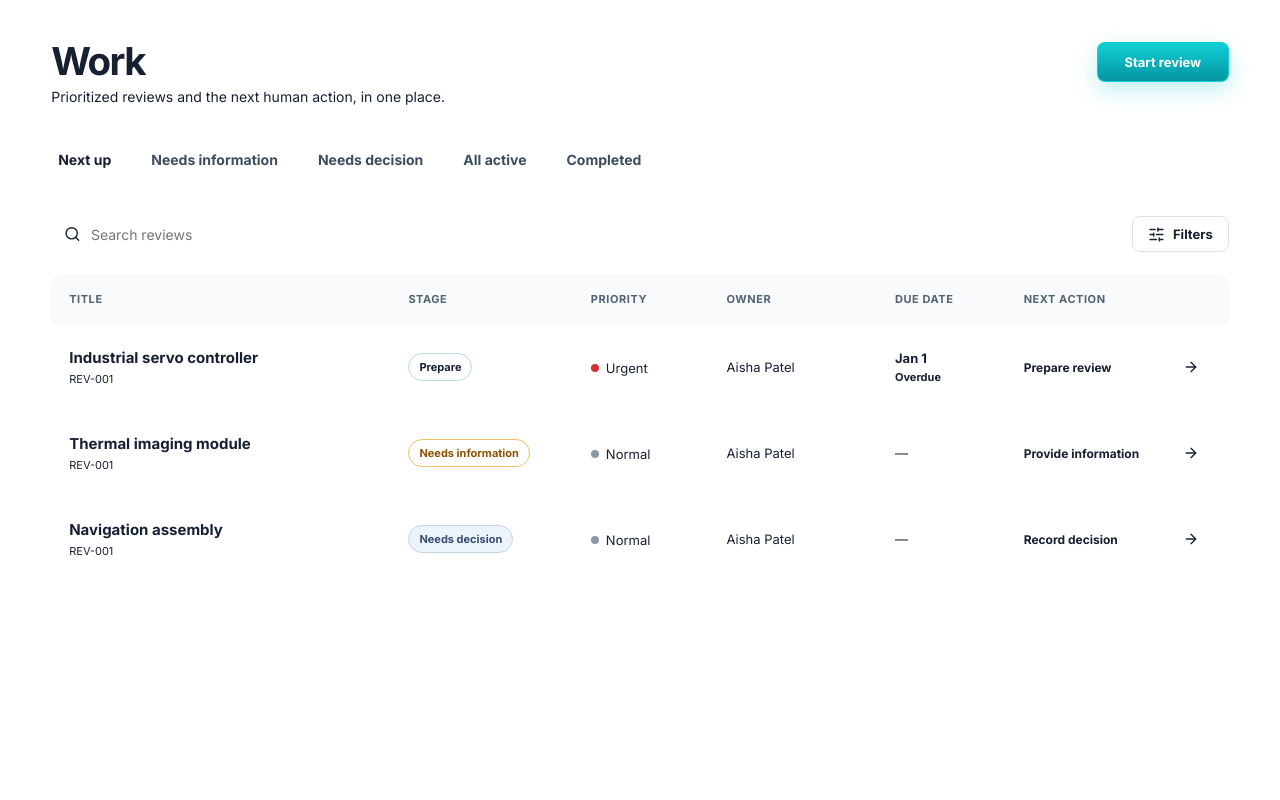
Scenario: WorkView › prioritizes one App-owned list and keeps advanced controls collapsed
This screenshot has width=1280, height=800.
Check: the heading "Work" is shown, box [51,38,145,84]
Check: the button "Industrial servo controller REV-001" is shown, box [69,340,258,394]
Click the button "Filters" at (1180, 234), box [1132,216,1229,252]
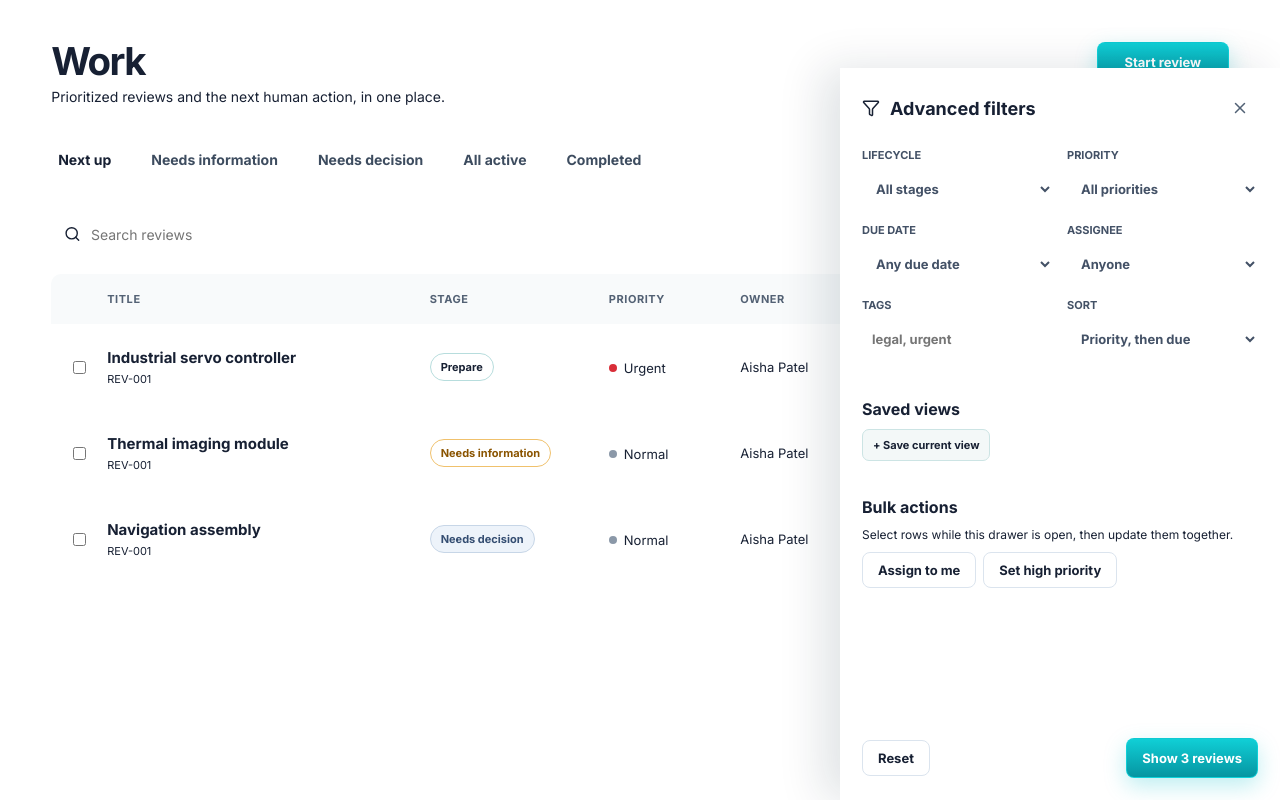
Check: the dropdown labelled "Lifecycle" is shown, box [862,169,1053,209]
Check: the text "Bulk actions" is shown, box [862,497,958,517]
